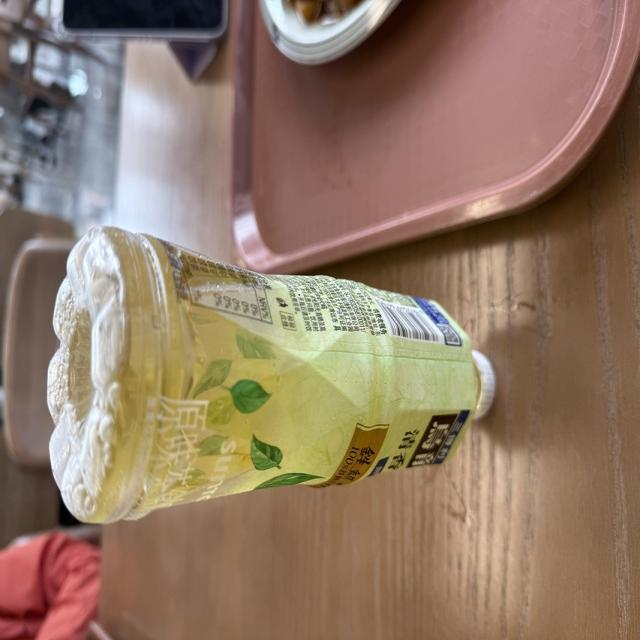high: (47, 227, 494, 523)
